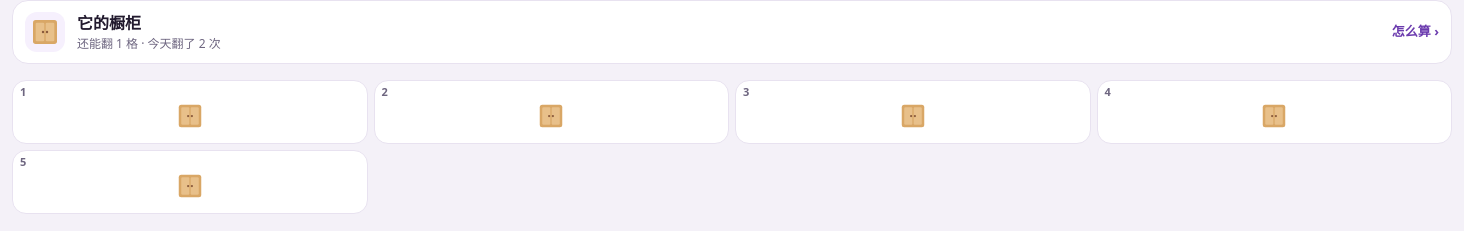
it: FriendFlipView：翻失败后重新读格子（问题记录 374 审查） › 别的页面把次数用完了，这里翻时报错：重新读，按钮跟着锁上
The width and height of the screenshot is (1464, 231).
Click the button with test id "slot-1" at (190, 112), box 12,80 -> 368,144
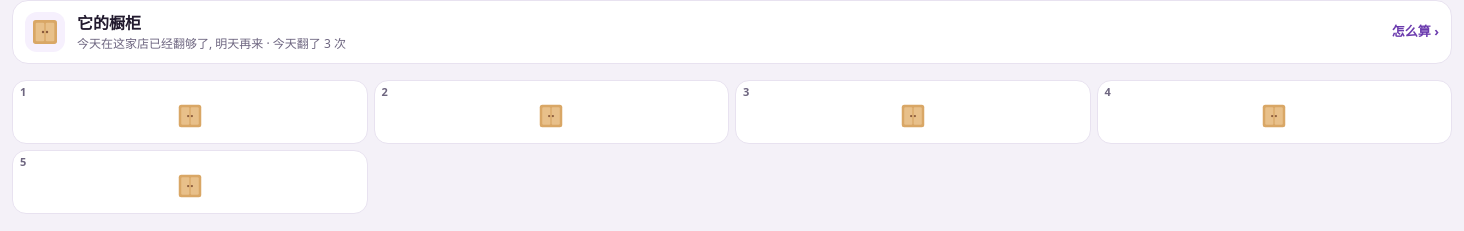
Check: the text with test id "host-left" reads "今天在这家店已经翻够了, 明天再来", box 77,35 -> 263,52
